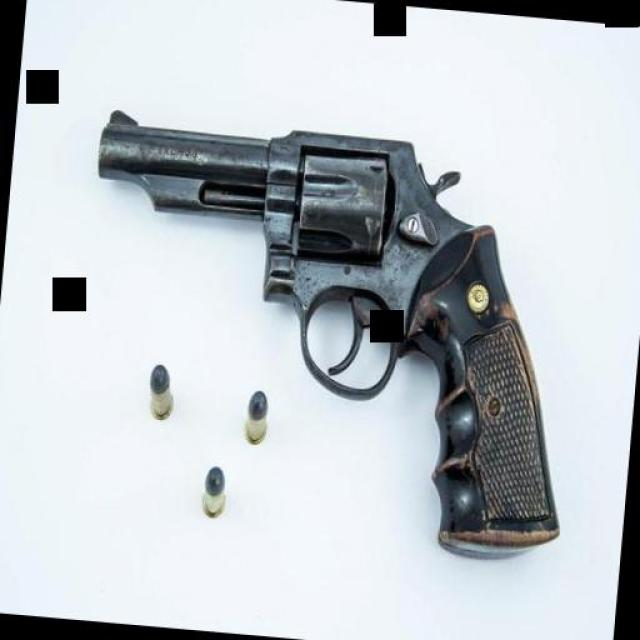gun: (52, 85, 592, 571)
